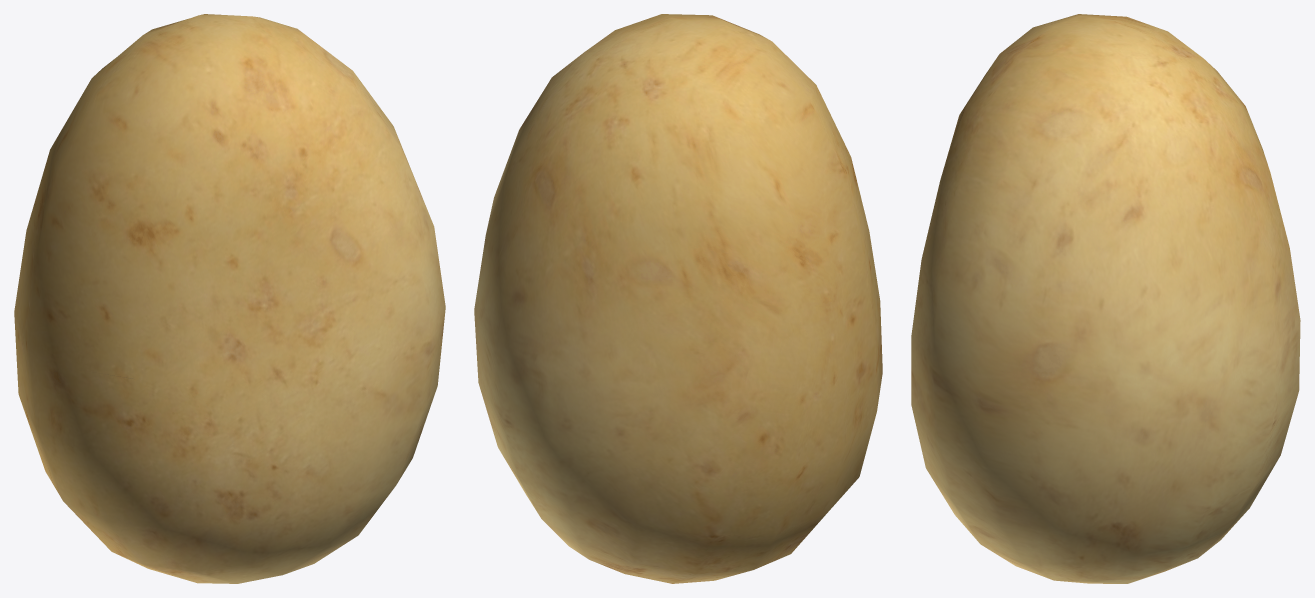
Rendered from Potato.FBX.
The picture shows the model from 3 angles, left to right: view 1: azimuth 30°, elevation 25°; view 2: azimuth 150°, elevation 25°; view 3: azimuth 270°, elevation 25°; orthographic projection.
Parts seen in each view (by area): view 1: Potato; view 2: Potato; view 3: Potato.
Part boxes in pixels (x1,y1,x2,y2): Potato: [14, 14, 445, 583]; Potato: [474, 14, 882, 583]; Potato: [911, 14, 1300, 583].
Bounding box in the file's own units: 25.08 × 35.69 × 23.51.
